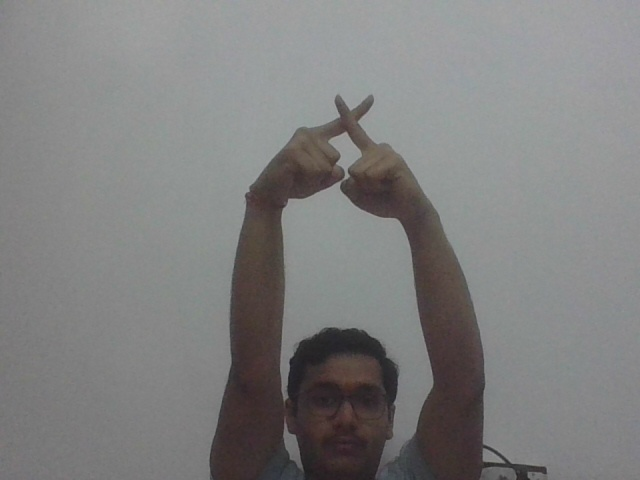X: (274, 90, 426, 221)
